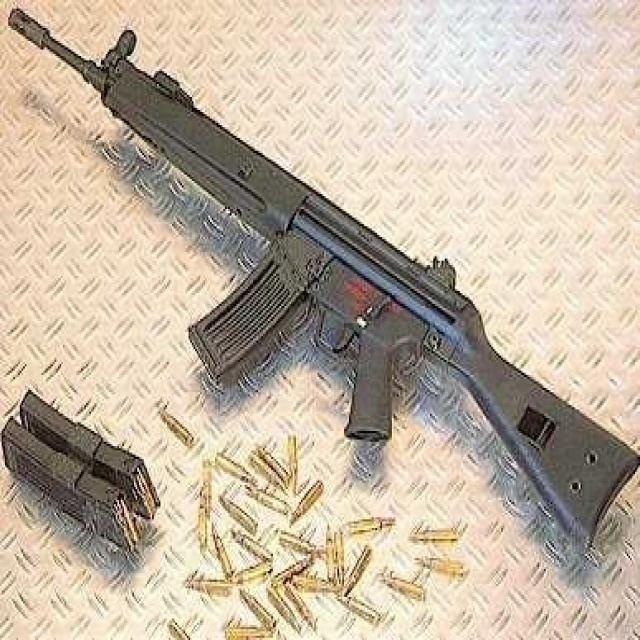Rifle: (9, 4, 638, 565)
